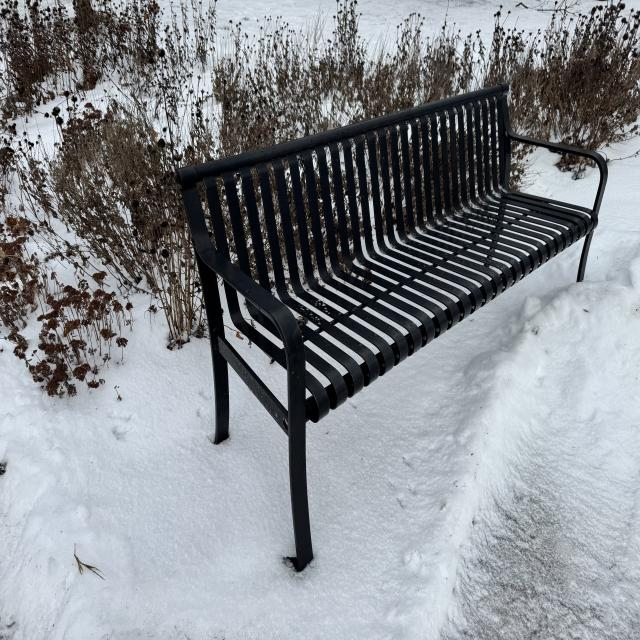Bench: (166, 69, 602, 567)
